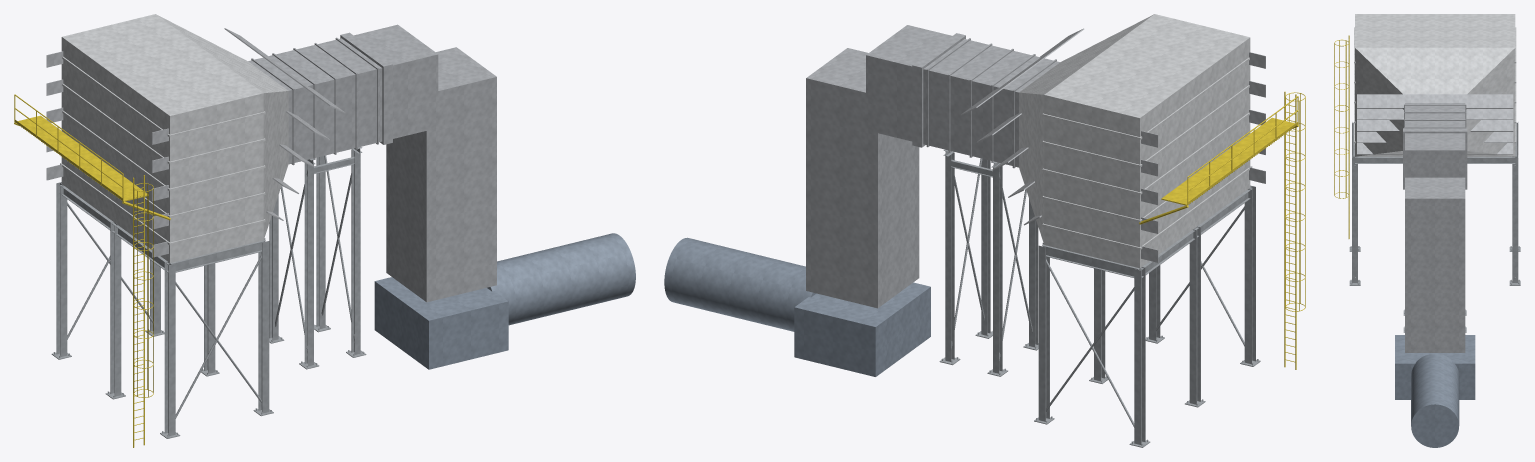
The model's file is air-intake-ducts.glb.
3 views of the same model, side by side, from view 1: azimuth 30°, elevation 25°; view 2: azimuth 150°, elevation 25°; view 3: azimuth 270°, elevation 25° (orthographic). The views are drawn at different scales.
Visible parts, largest first — view 1: FilterHouse, Elbow&ExpansionJoint, SupportStructure, Turbine&Plenum(context), SilencerSection, Filter-ChangePlatform, TransitionDuct, WeatherHoods; view 2: FilterHouse, Elbow&ExpansionJoint, SupportStructure, Turbine&Plenum(context), SilencerSection, Filter-ChangePlatform, TransitionDuct, WeatherHoods; view 3: Elbow&ExpansionJoint, TransitionDuct, Turbine&Plenum(context), FilterHouse, WeatherHoods, SupportStructure, SilencerSection, Filter-ChangePlatform.
Boxes of the visible parts, x1,y1,x2,y2 form: FilterHouse: [60, 14, 265, 262]; Elbow&ExpansionJoint: [340, 24, 496, 302]; SupportStructure: [51, 147, 366, 438]; Turbine&Plenum(context): [374, 233, 635, 369]; SilencerSection: [248, 37, 382, 165]; Filter-ChangePlatform: [14, 94, 170, 447]; TransitionDuct: [156, 14, 288, 239]; WeatherHoods: [46, 28, 345, 257]; FilterHouse: [1042, 14, 1252, 268]; Elbow&ExpansionJoint: [806, 25, 965, 308]; SupportStructure: [939, 149, 1260, 447]; Turbine&Plenum(context): [664, 237, 930, 376]; SilencerSection: [923, 38, 1059, 168]; Filter-ChangePlatform: [1139, 91, 1305, 369]; TransitionDuct: [1019, 14, 1153, 244]; WeatherHoods: [961, 28, 1265, 262]; Elbow&ExpansionJoint: [1403, 128, 1467, 352]; TransitionDuct: [1355, 47, 1515, 156]; Turbine&Plenum(context): [1395, 335, 1475, 447]; FilterHouse: [1354, 14, 1516, 143]; WeatherHoods: [1357, 94, 1513, 154]; SupportStructure: [1349, 122, 1520, 332]; SilencerSection: [1404, 103, 1466, 128]; Filter-ChangePlatform: [1334, 35, 1349, 238].
Bounding box in the file's own units: 23.52 × 14 × 9.31.
6 materials, 6 textured.
